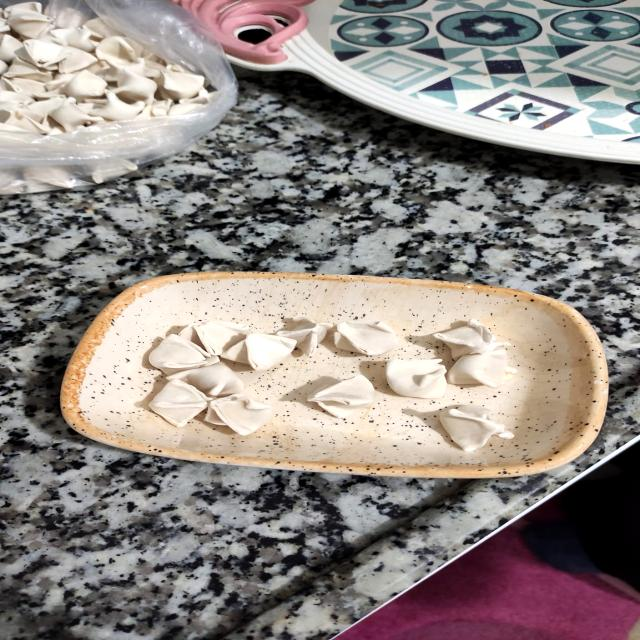turkish dumplings: (124, 300, 564, 459)
